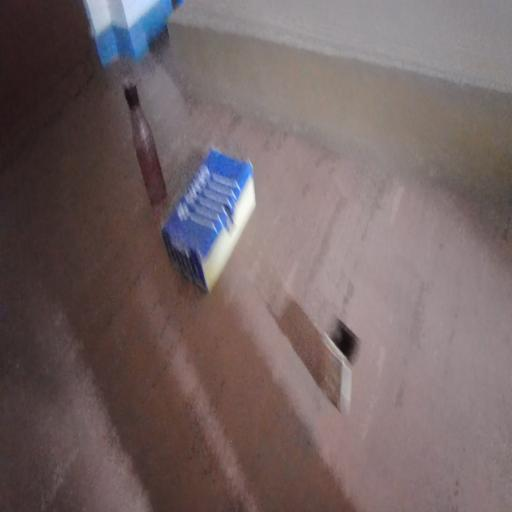Bottle: (118, 71, 174, 196)
